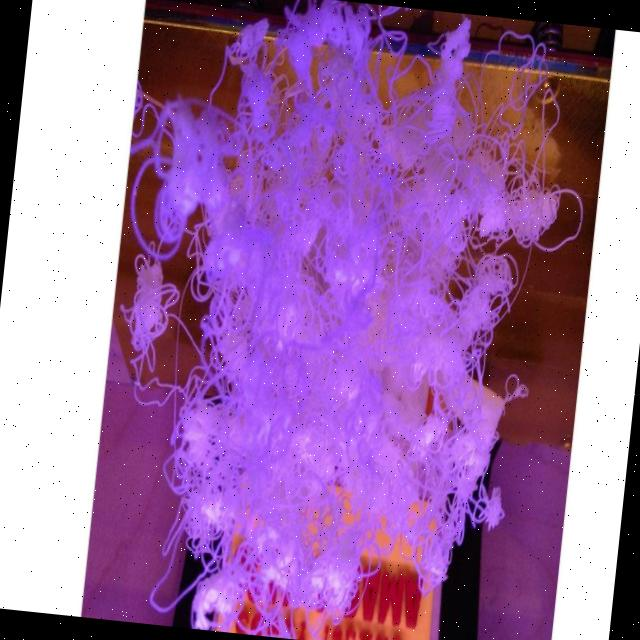spaghetti: (91, 0, 606, 640)
